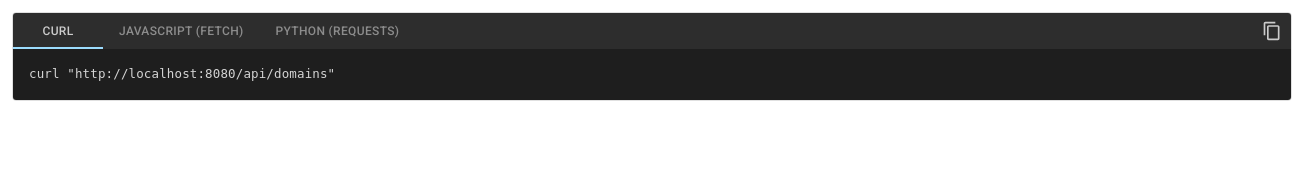
Test: SnippetBlock › switches to Python tab
This screenshot has width=1292, height=172.
Click the tab "Python (requests)": (337, 31) [260,13,415,49]
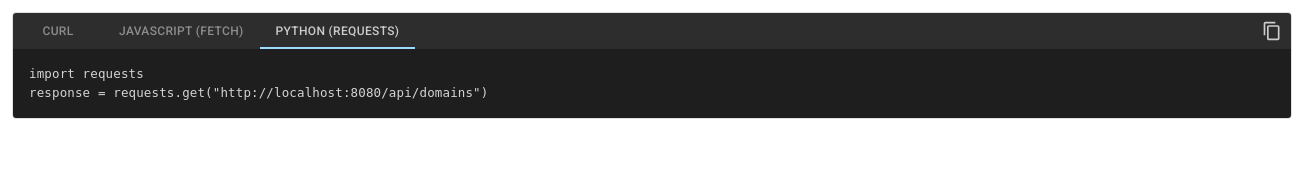
Check: the text "import requests" is shown, box [29,66,488,100]
